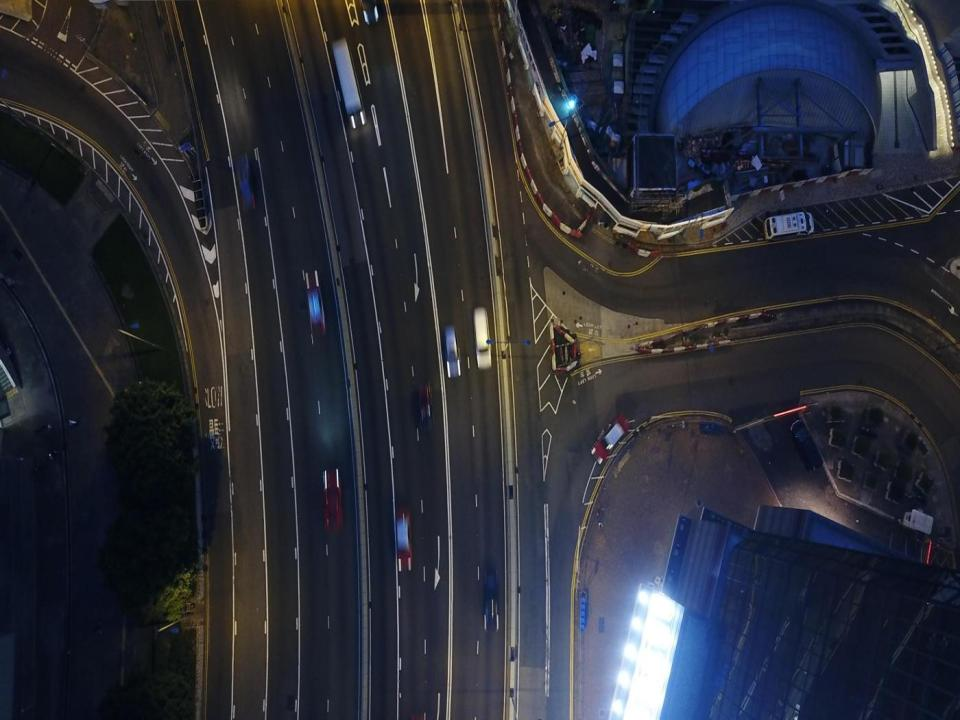bus: (332, 37, 367, 130)
car: (590, 416, 629, 463), (234, 152, 258, 212), (304, 270, 325, 337), (322, 468, 344, 531), (481, 563, 501, 630), (395, 510, 411, 554), (418, 381, 434, 424), (361, 0, 380, 25)
van: (763, 211, 814, 239), (474, 307, 493, 370), (443, 327, 461, 378)
